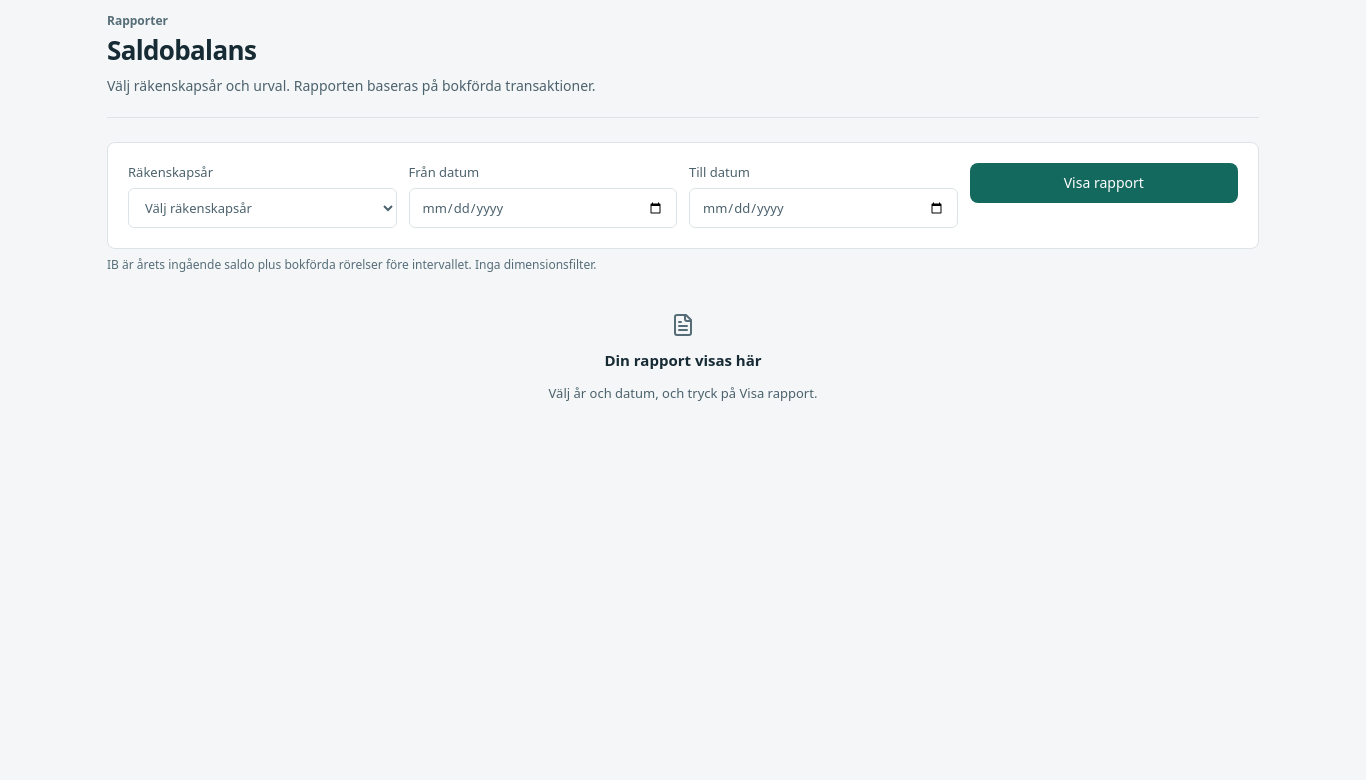
renders the six Golden account sides and totals without client arithmetic
Select "2026 · Öppet" in the dropdown labelled "Räkenskapsår" at (262, 208), box [128,188,396,228]
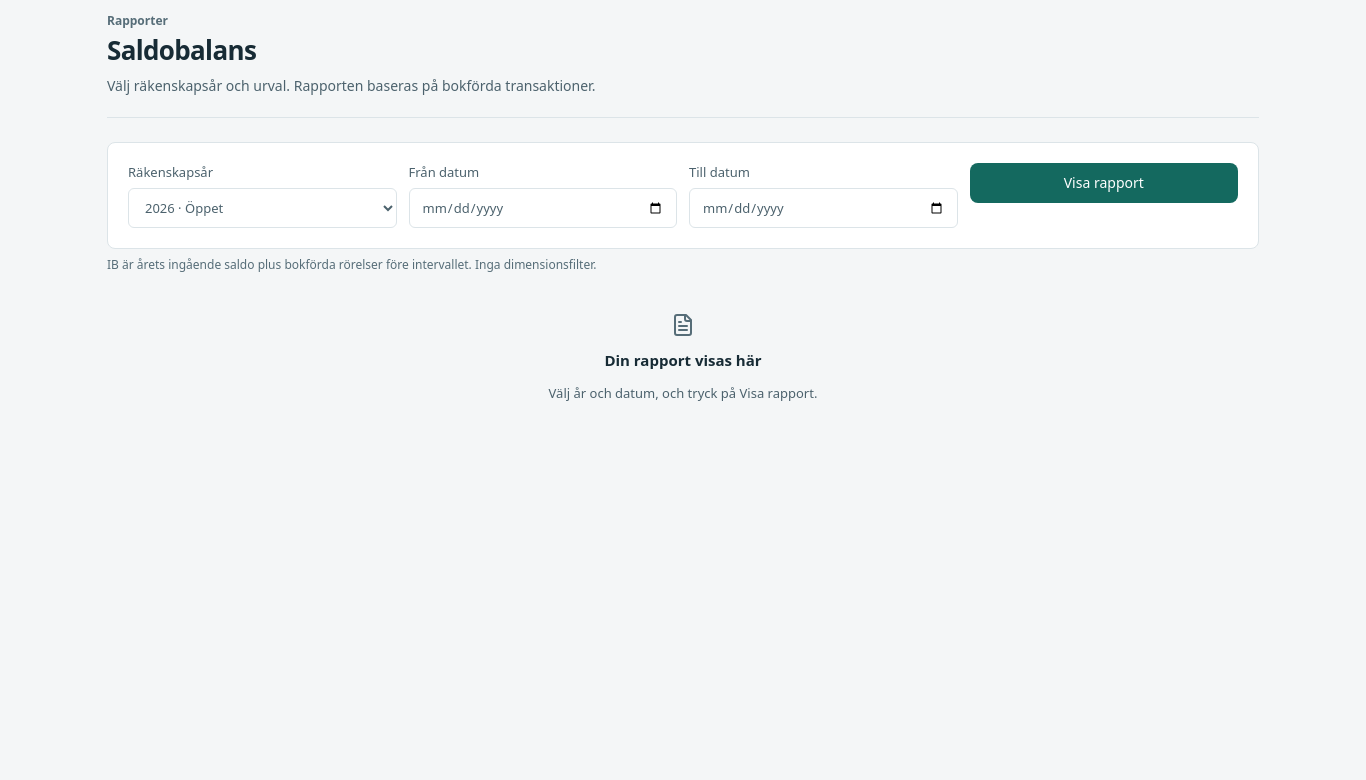
Type "2026-01-01" into the date field labelled "Från datum" at (543, 208), box [408,188,677,228]
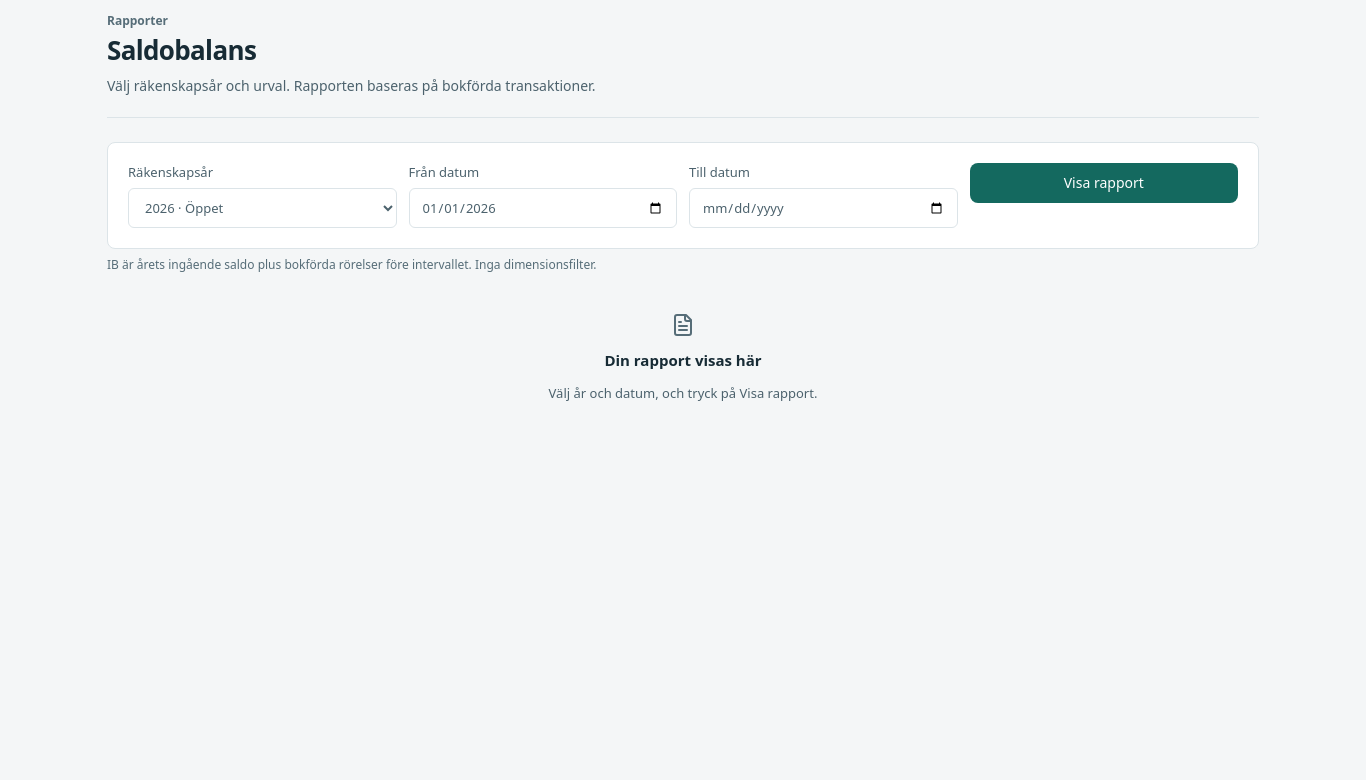
Type "2026-12-31" into the date field labelled "Till datum" at (823, 208), box [689,188,958,228]
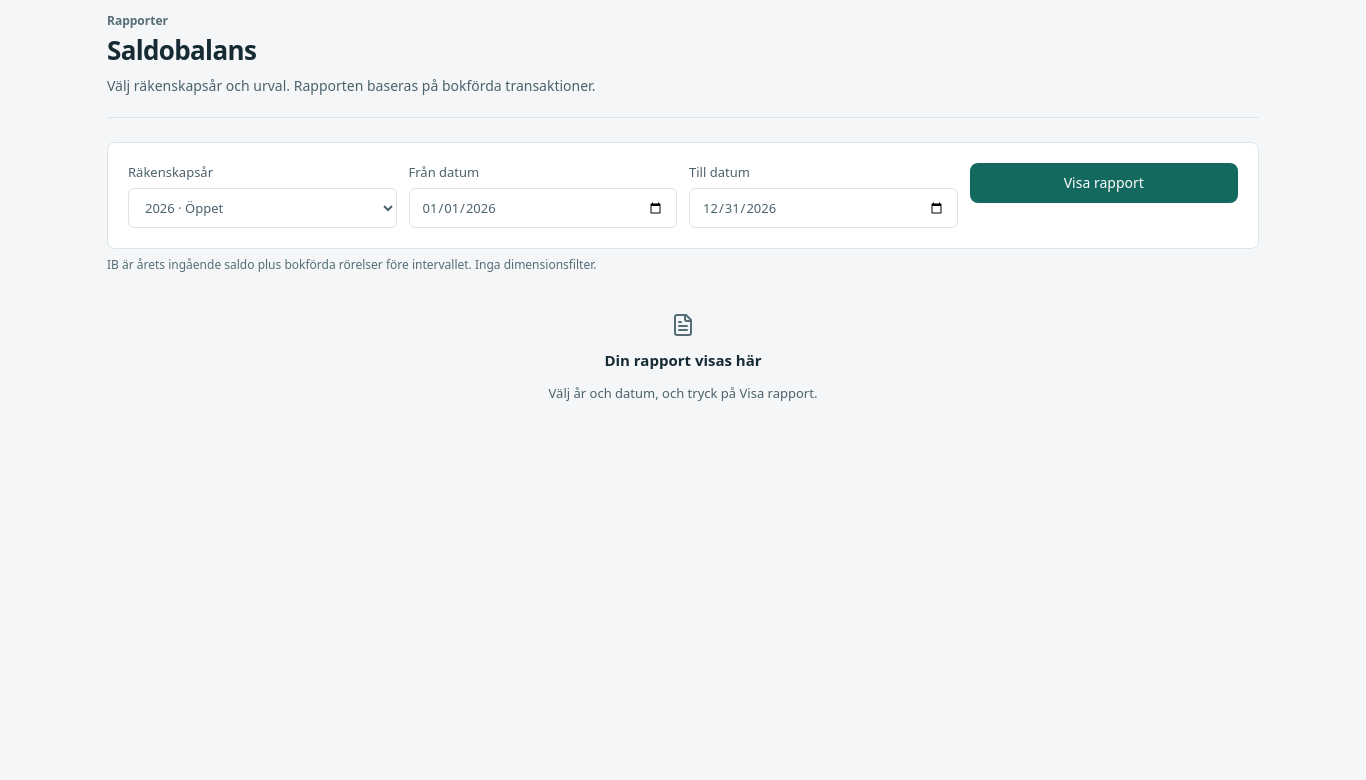
Click the button "Visa rapport" at (1104, 183), box [970,163,1238,203]
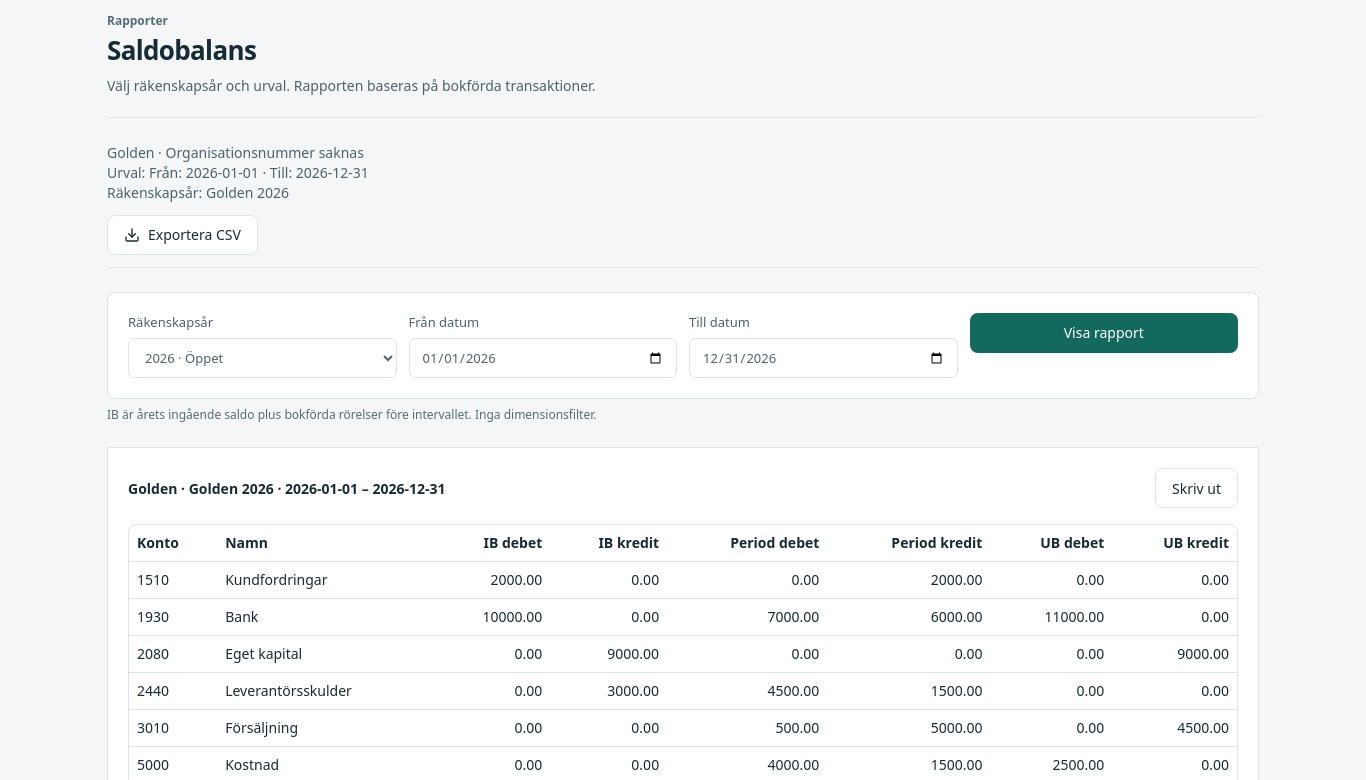
Result: the row "1930 Bank 10000.00 0.00 7000.00 6000.00 11000.00 0.00" is shown at [129,599,1237,636]
